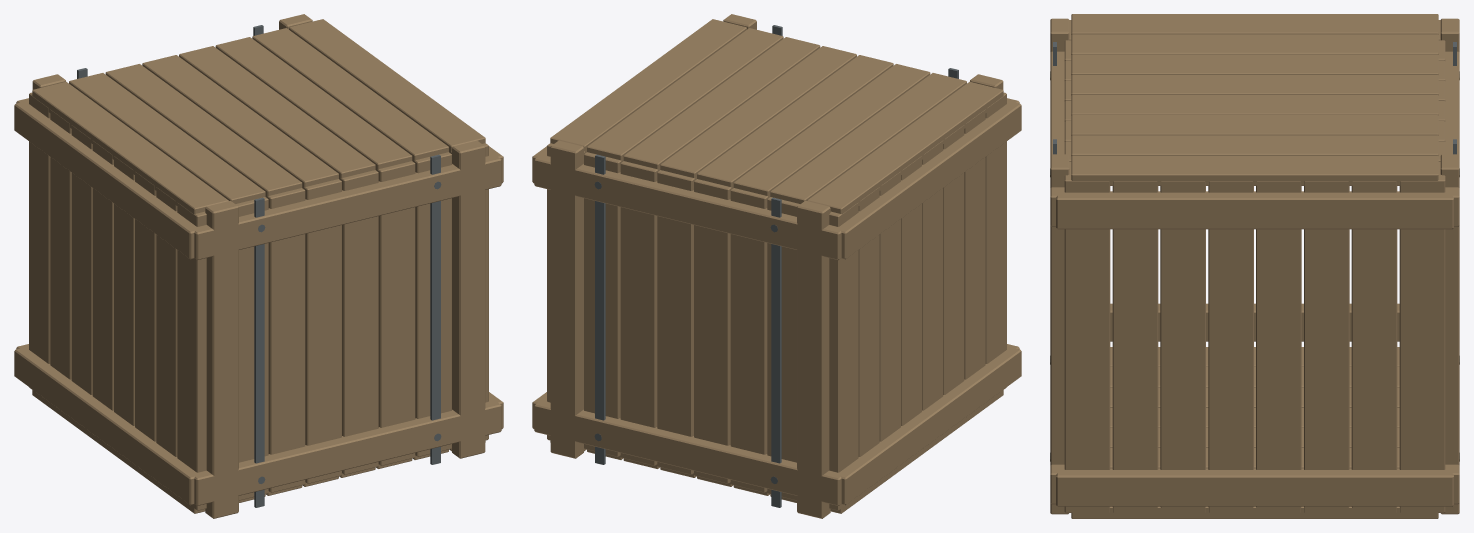
Rendered from SM_Crate.fbx.
The picture shows the model from 3 angles, left to right: view 1: azimuth 30°, elevation 25°; view 2: azimuth 150°, elevation 25°; view 3: azimuth 270°, elevation 25°; orthographic projection. The views are drawn at different scales.
Parts seen in each view (by area): view 1: SM_Crate; view 2: SM_Crate; view 3: SM_Crate.
Part boxes in pixels (x1=…): SM_Crate: x1=14, y1=14, x2=503, y2=518; SM_Crate: x1=532, y1=14, x2=1021, y2=518; SM_Crate: x1=1050, y1=14, x2=1459, y2=518.
Size of the model in its own units: 107 by 107 by 100.
